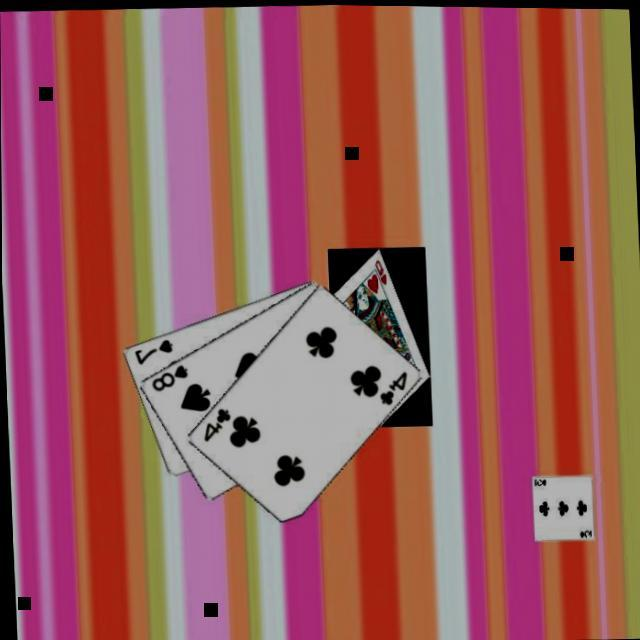4C: (199, 406, 234, 445), (376, 368, 411, 407)
7S: (131, 337, 175, 369)
8S: (148, 363, 191, 395)
